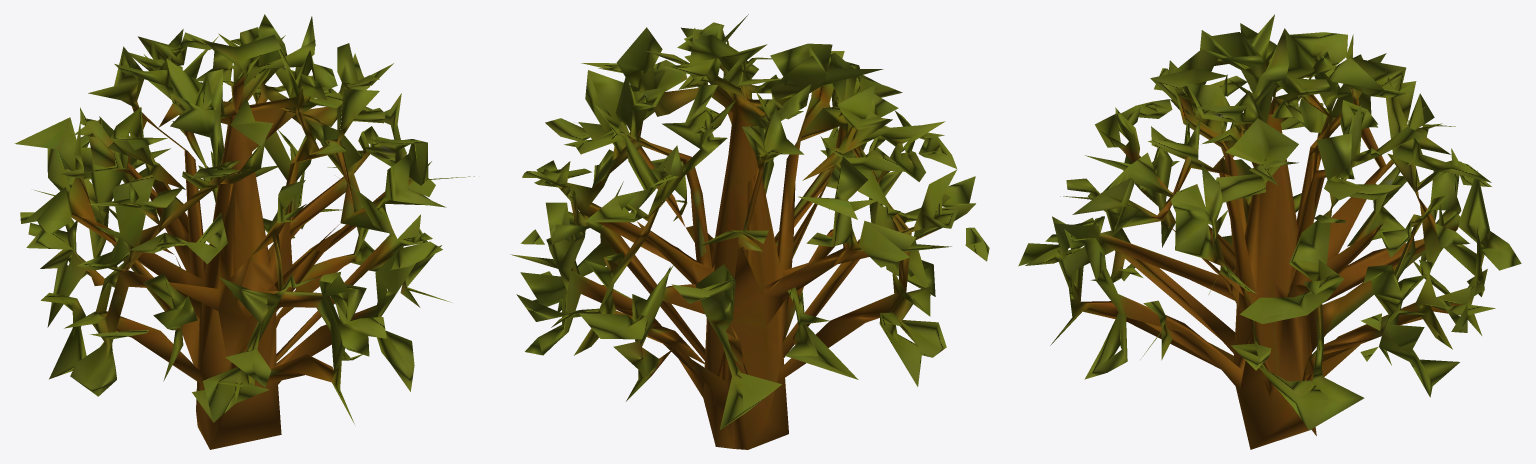
The model's file is bush.glb.
3 renders of one model, left to right at view 1: azimuth 30°, elevation 25°; view 2: azimuth 150°, elevation 25°; view 3: azimuth 270°, elevation 25°, orthographic.
Parts seen in each view (by area): view 1: tripo_node_b801b931-3a42-4b7d-8c01-eb109eed22d1; view 2: tripo_node_b801b931-3a42-4b7d-8c01-eb109eed22d1; view 3: tripo_node_b801b931-3a42-4b7d-8c01-eb109eed22d1.
Boxes of the visible parts, x1,y1,x2,y2 form: tripo_node_b801b931-3a42-4b7d-8c01-eb109eed22d1: [14, 14, 474, 449]; tripo_node_b801b931-3a42-4b7d-8c01-eb109eed22d1: [511, 14, 989, 449]; tripo_node_b801b931-3a42-4b7d-8c01-eb109eed22d1: [1018, 14, 1521, 449].
Bounding box in the file's own units: 0.9159 × 0.8325 × 0.9698.
1 material, 1 textured.
